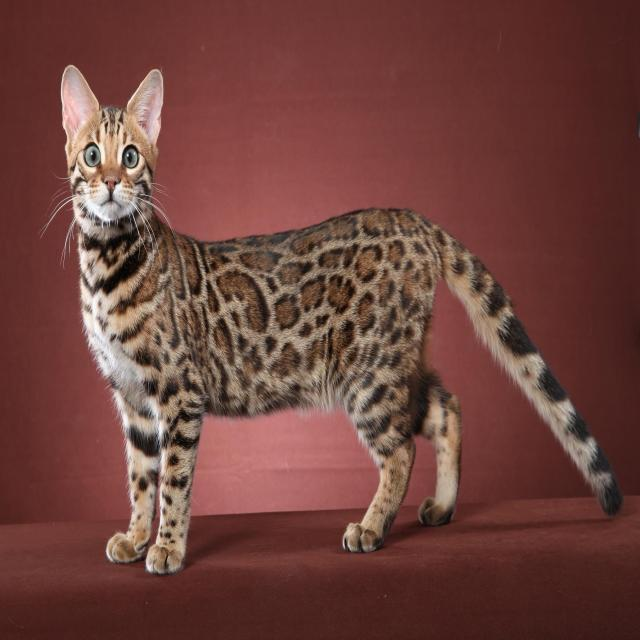cat: (38, 53, 626, 587)
